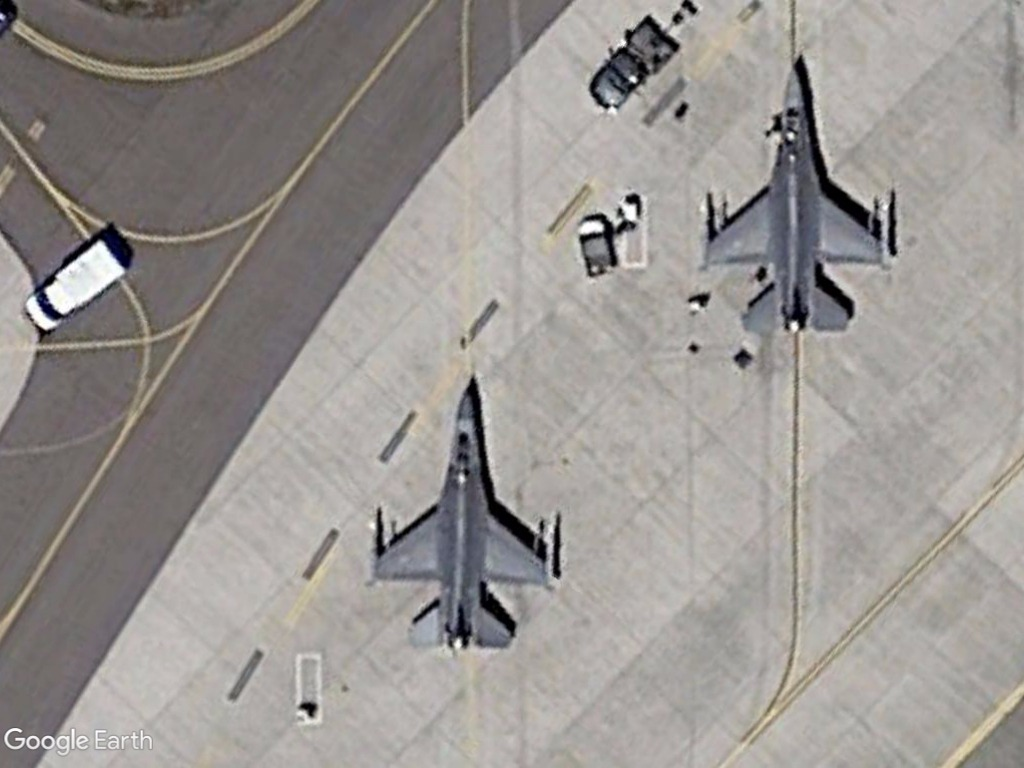fighter: (694, 56, 905, 344), (363, 381, 563, 660)
van: (14, 232, 133, 337)
